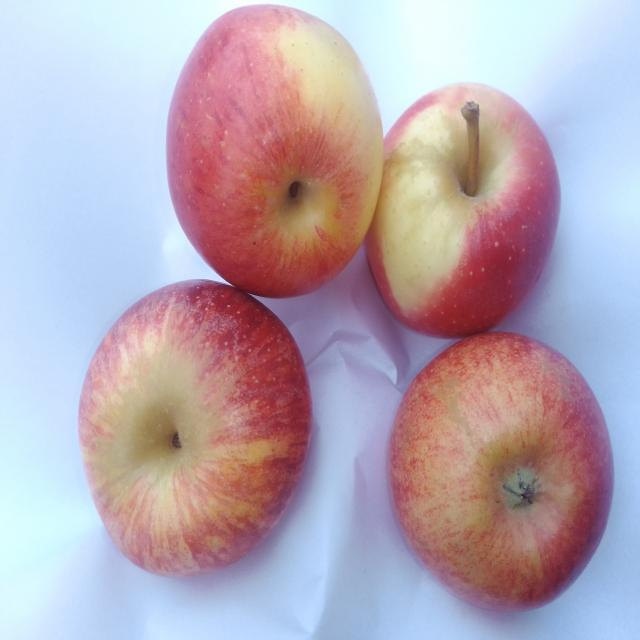Fresh Apple: (71, 278, 316, 587), (385, 328, 622, 614), (155, 7, 387, 293), (370, 85, 570, 337)
